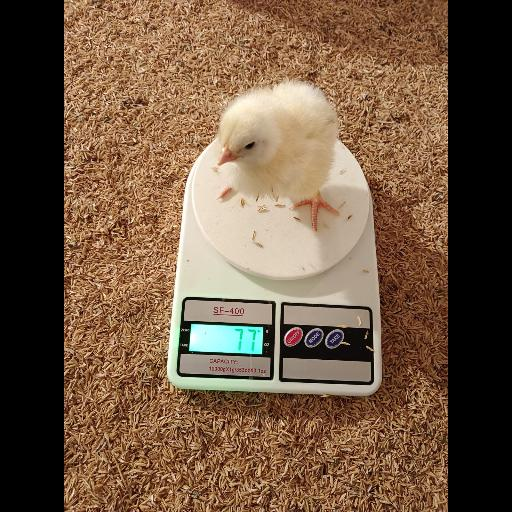chick: (218, 80, 339, 227)
